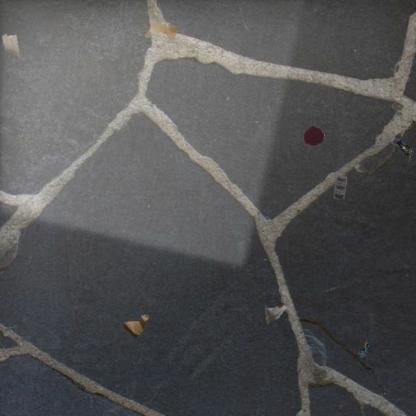dirty: (120, 313, 151, 341), (1, 32, 22, 60), (394, 138, 416, 162), (264, 303, 288, 324), (332, 174, 347, 200), (357, 338, 370, 359)
liquid: (144, 19, 178, 41), (303, 125, 326, 147)
